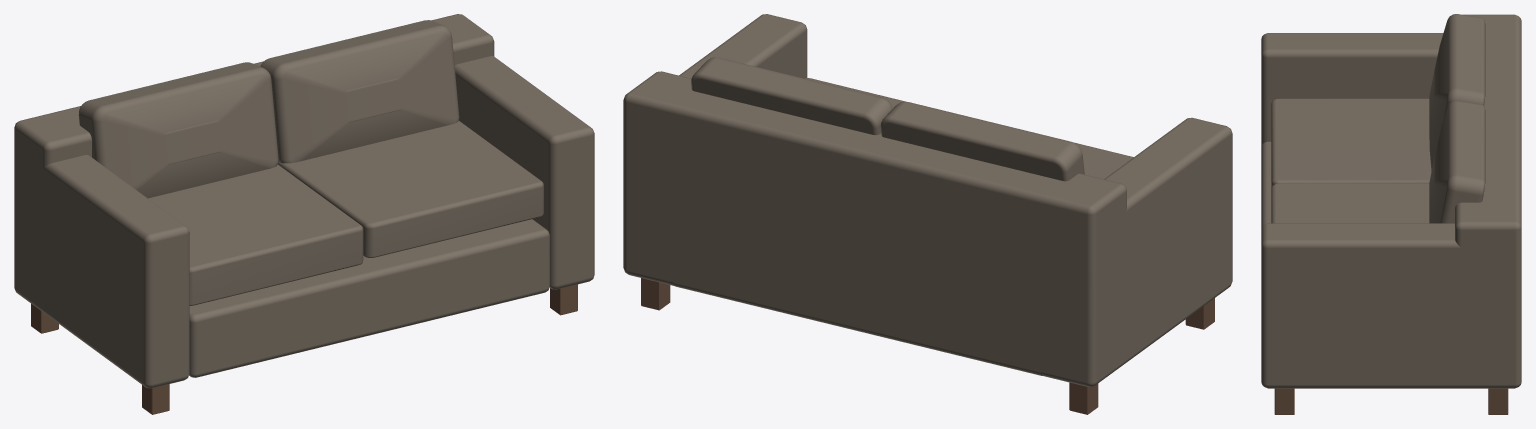
The model's file is sofa-small-c566d70b9dc9.glb.
3 views of the same model, side by side, from view 1: azimuth 30°, elevation 25°; view 2: azimuth 150°, elevation 25°; view 3: azimuth 270°, elevation 25° (orthographic). The views are drawn at different scales.
Parts seen in each view (by area): view 1: cover-cloth, wood; view 2: cover-cloth, wood; view 3: cover-cloth, wood.
Boxes of the visible parts, bbox=[...] form: cover-cloth: bbox=[14, 14, 594, 388]; wood: bbox=[31, 284, 577, 414]; cover-cloth: bbox=[623, 14, 1232, 386]; wood: bbox=[641, 278, 1214, 414]; cover-cloth: bbox=[1261, 14, 1521, 388]; wood: bbox=[1274, 388, 1508, 414].
Bounding box in the file's own units: 1.5 × 0.7303 × 0.7805.
